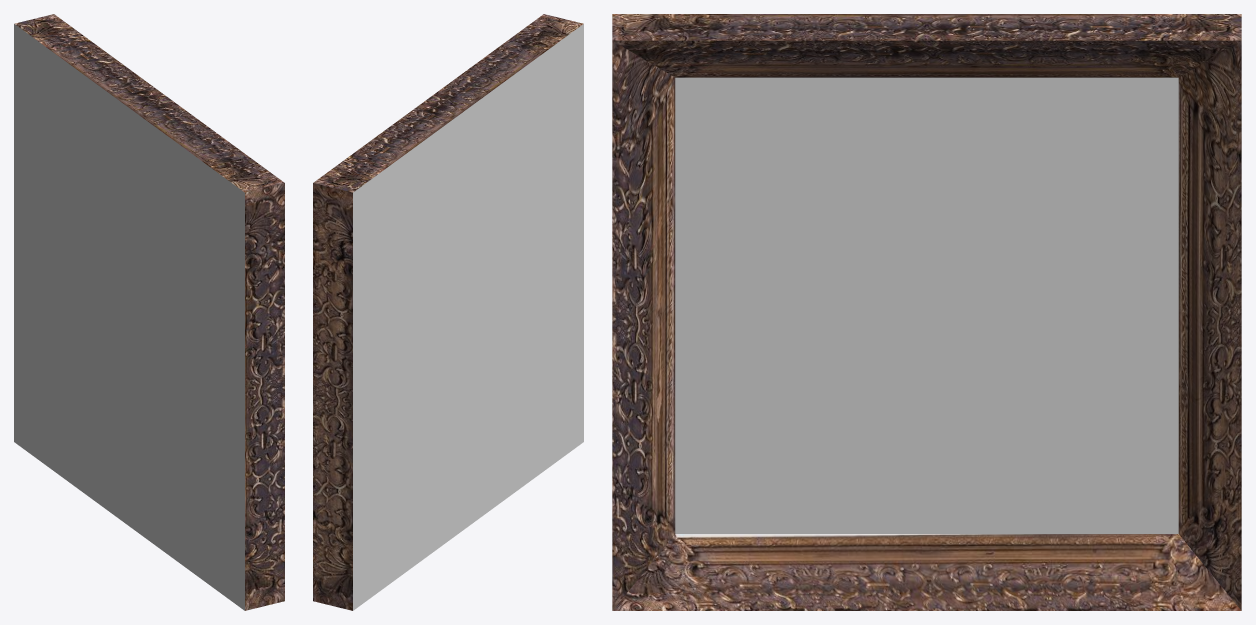
Rendered from pictureFrame.fbx.
The picture shows the model from 3 angles, left to right: view 1: azimuth 30°, elevation 25°; view 2: azimuth 150°, elevation 25°; view 3: azimuth 270°, elevation 25°; orthographic projection. The views are drawn at different scales.
Visible parts, largest first — view 1: Cube; view 2: Cube; view 3: Cube.
Part boxes in pixels (left/top/right/bottom): Cube: left=14, top=14, right=284, bottom=610; Cube: left=313, top=14, right=583, bottom=610; Cube: left=612, top=14, right=1241, bottom=610.
Size of the model in its own units: 20 by 200 by 200.
1 material, 1 textured.
